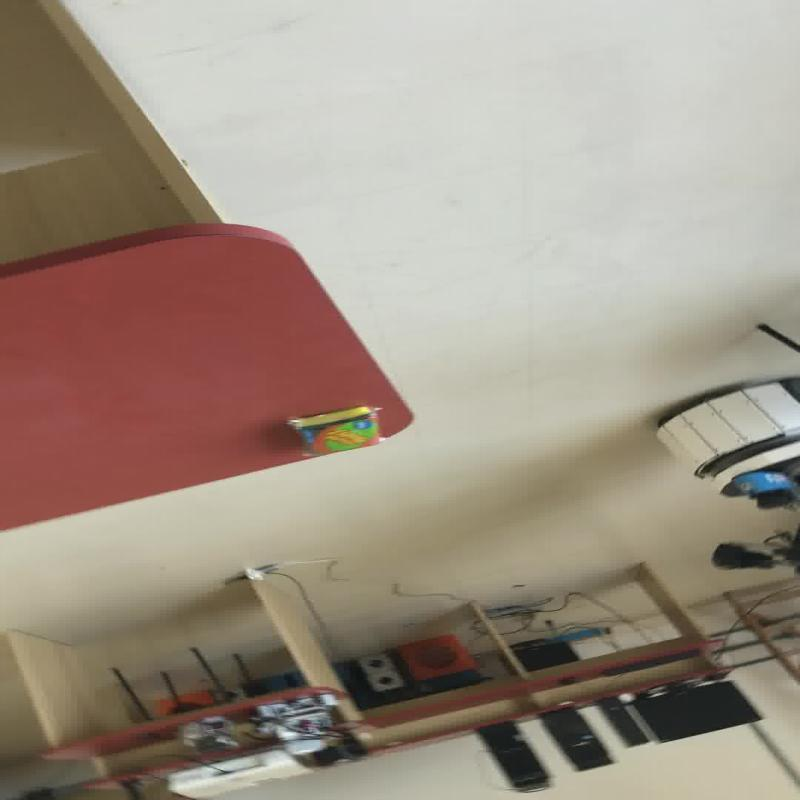sponge: (282, 404, 382, 457)
